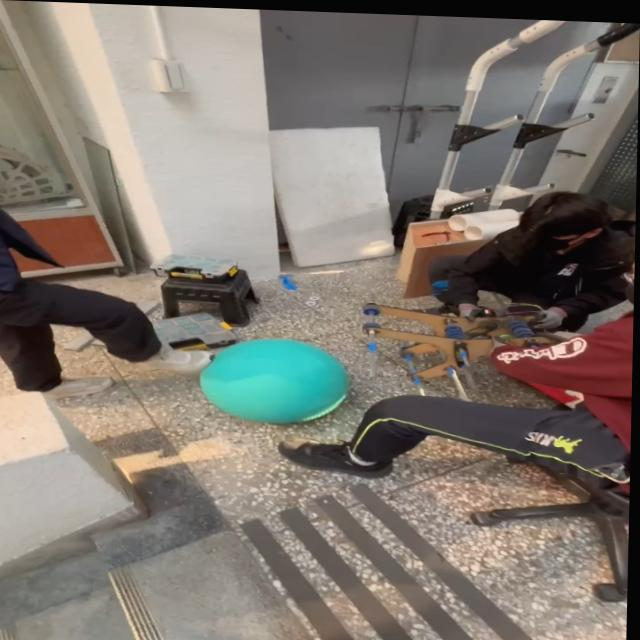ALGAE: (196, 335, 352, 428)
